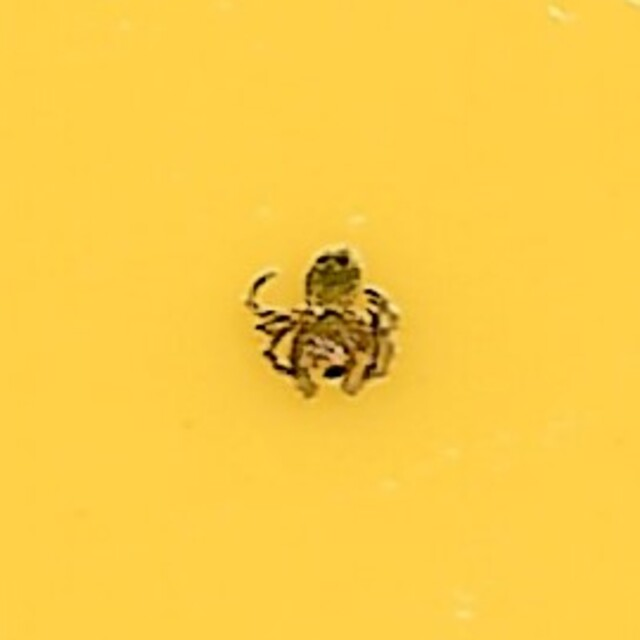Araneae: (237, 237, 403, 403)
